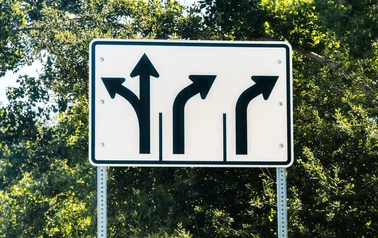Straight or Left Turn Only: (98, 49, 161, 156)
